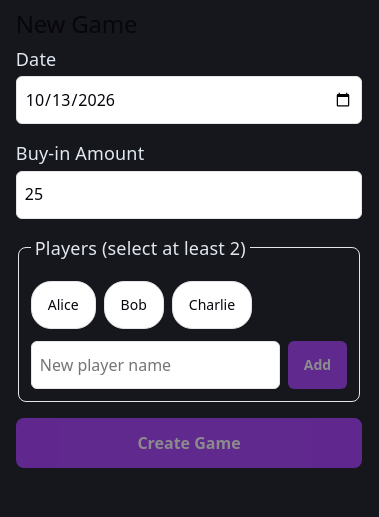
Test: GameCreateForm › shows error when adding duplicate player
Expected: the button "Alice" is shown, [31,281,96,329]
Type "Alice" into the field with placeholder "New player name" at (155, 365), box [31,341,280,389]
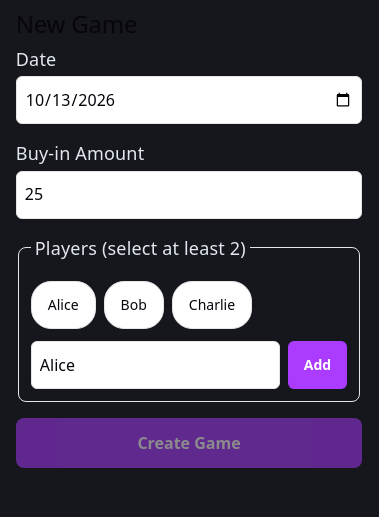
Click the button "Add" at (318, 365), box [288,341,347,389]
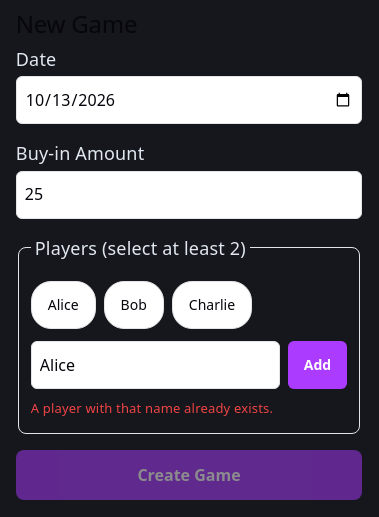
Result: the text "A player with that name already exists." is shown at [31,399,273,417]
